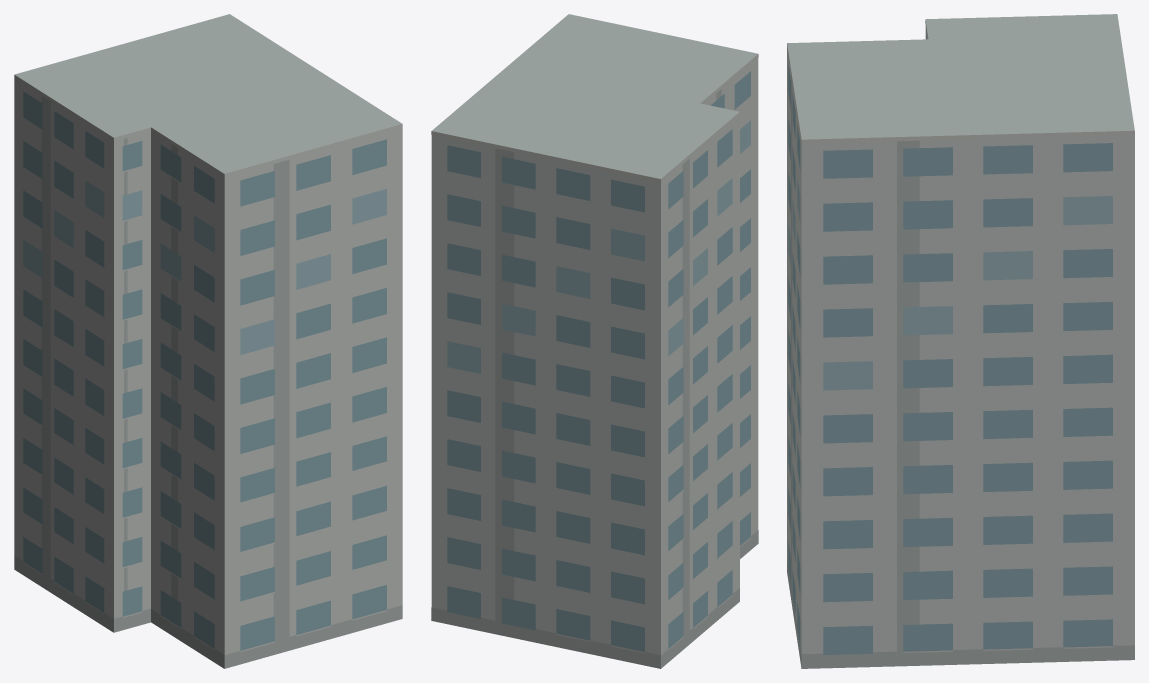
File: residential-e094b6b9-8d28-47a8-9ef1-0c9889a653cd.glb
The picture shows the model from 3 angles, left to right: view 1: azimuth 30°, elevation 25°; view 2: azimuth 150°, elevation 25°; view 3: azimuth 270°, elevation 25°; orthographic projection. The views are drawn at different scales.
Parts seen in each view (by area): view 1: residential-e094b6b9-8d28-47a8-9ef1-0c9889a653cd.tmp; view 2: residential-e094b6b9-8d28-47a8-9ef1-0c9889a653cd.tmp; view 3: residential-e094b6b9-8d28-47a8-9ef1-0c9889a653cd.tmp.
Boxes of the visible parts, box(x1,y1,x2,y2) form: residential-e094b6b9-8d28-47a8-9ef1-0c9889a653cd.tmp: box(14, 14, 402, 668); residential-e094b6b9-8d28-47a8-9ef1-0c9889a653cd.tmp: box(431, 14, 758, 668); residential-e094b6b9-8d28-47a8-9ef1-0c9889a653cd.tmp: box(787, 14, 1134, 668).
Size of the model in its own units: 15.79 by 31 by 18.47.
